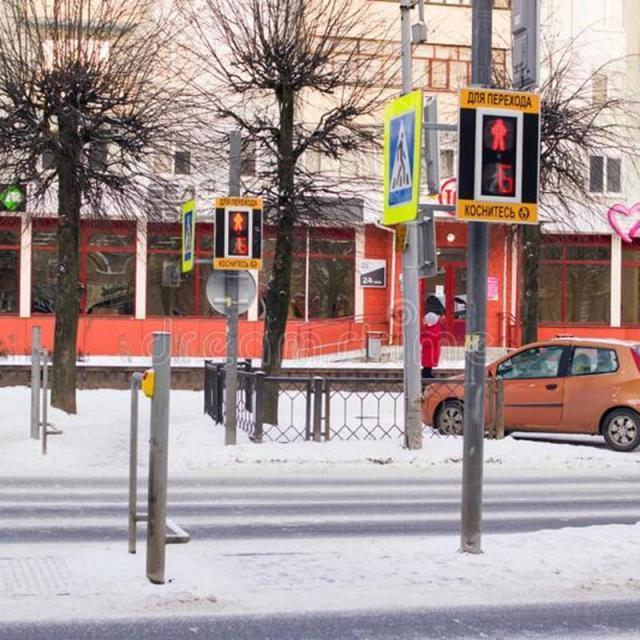red-crossing: (475, 104, 523, 157), (218, 204, 260, 246)
